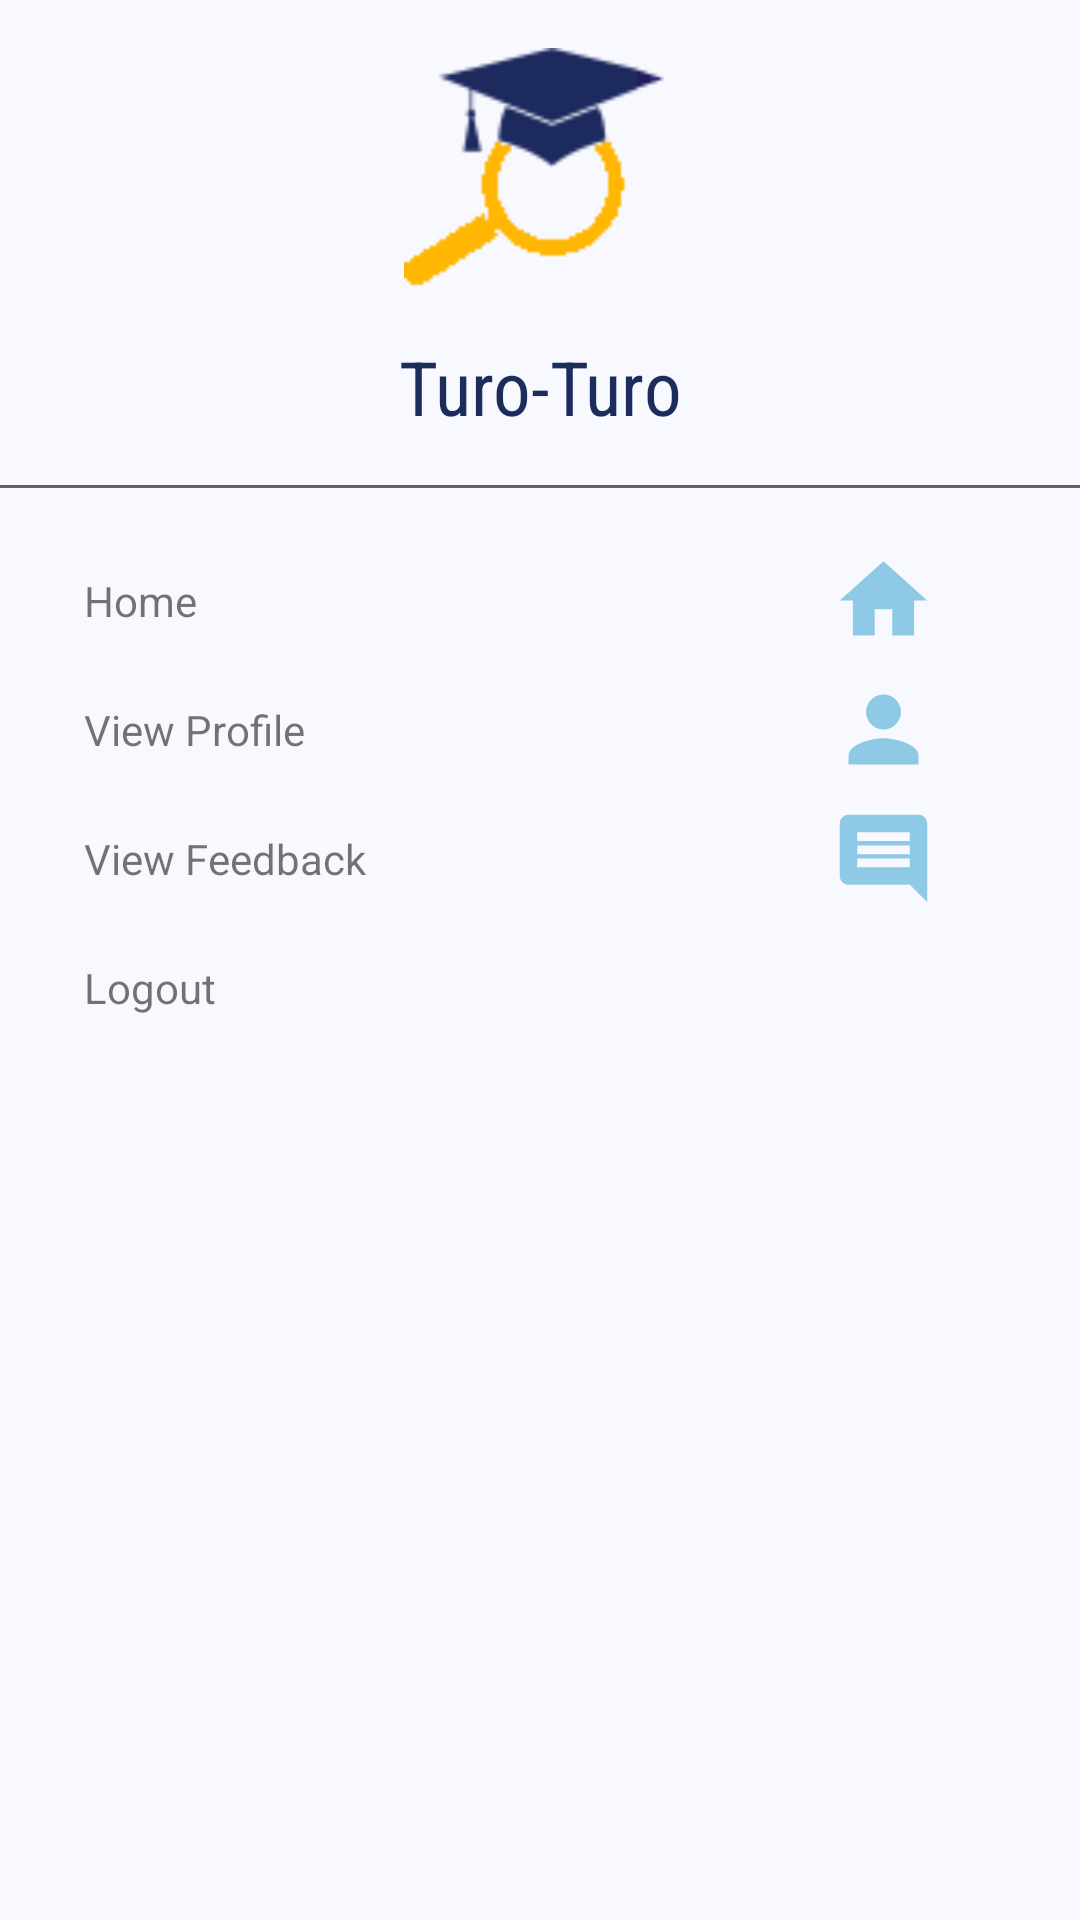

Named icons in this screenshot (1080px x 1920px) and their centers, [x,y]:
comment: [883,858]
person: [883,729]
tutor: [534,167]
